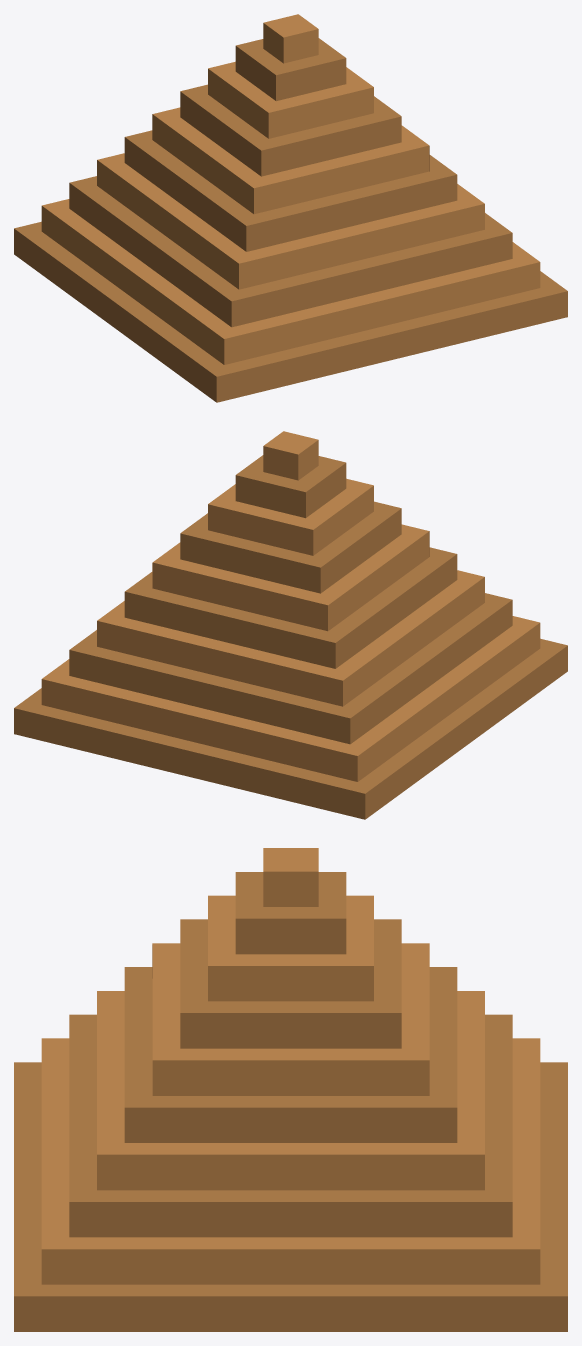
3 views of the same model, one above another, from view 1: azimuth 30°, elevation 25°; view 2: azimuth 150°, elevation 25°; view 3: azimuth 270°, elevation 25° (orthographic). The views are drawn at different scales.
Parts seen in each view (by area): view 1: Pyramid; view 2: Pyramid; view 3: Pyramid.
Boxes of the visible parts, bbox=[...] form: Pyramid: bbox=[14, 14, 567, 402]; Pyramid: bbox=[14, 431, 567, 819]; Pyramid: bbox=[14, 848, 567, 1331].
Size of the model in its own units: 78.07 by 55.21 by 78.07.
